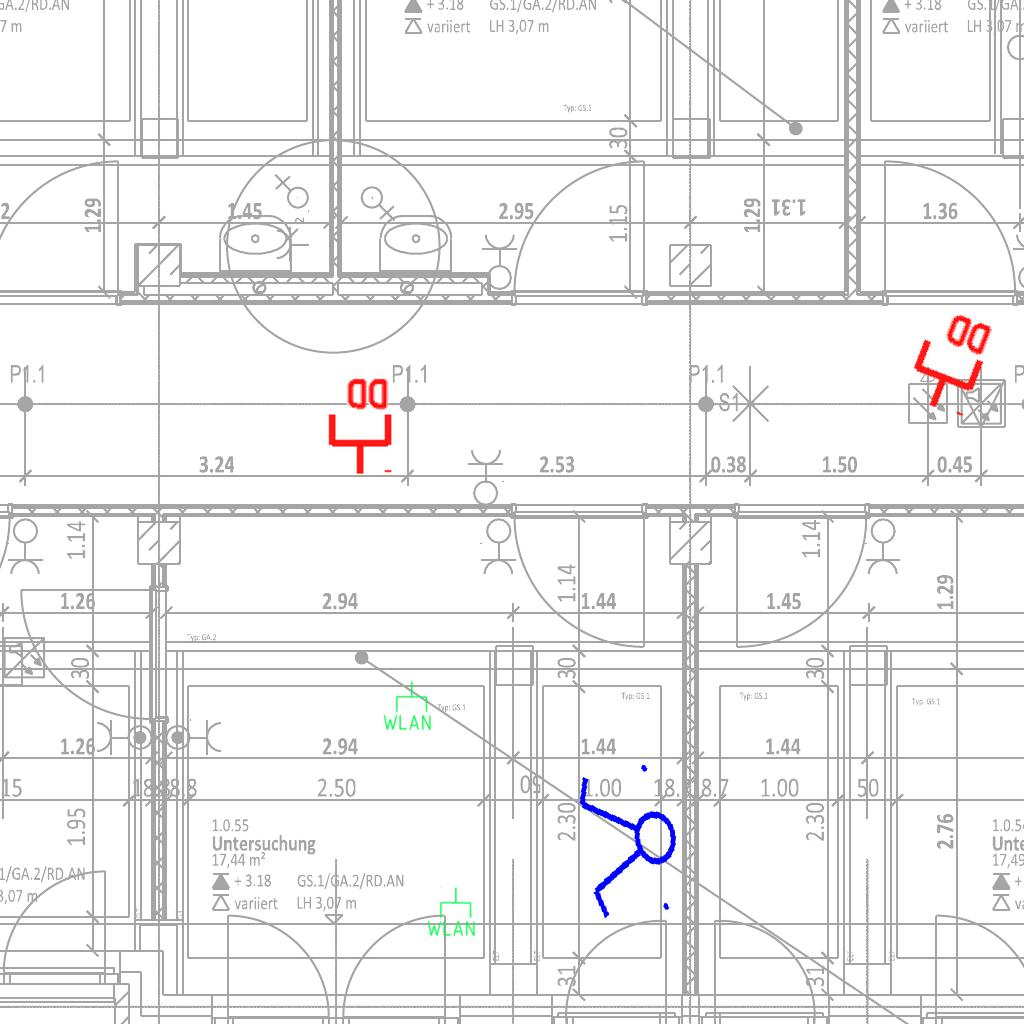Datenanschluss_zweifach: (897, 300, 1000, 421), (324, 374, 393, 477)
Serienschalter: (569, 752, 691, 934)
WLAN: (425, 886, 477, 938), (381, 680, 433, 732)
